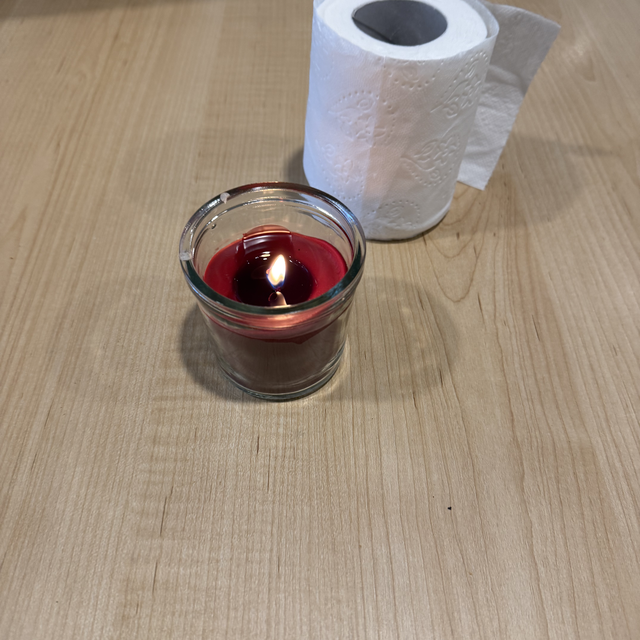Candle: (182, 181, 367, 407)
Toilet Paper: (295, 0, 530, 264)
